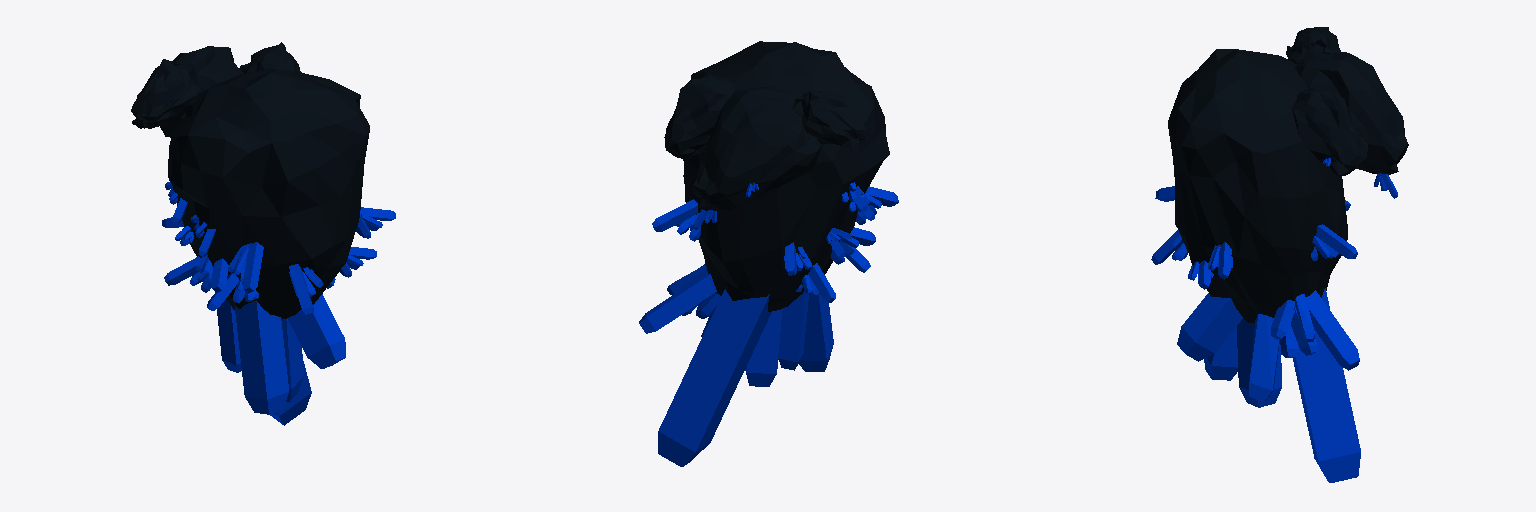
The model's file is ore_eupheria_small.obj.
3 views of the same model, side by side, from view 1: azimuth 30°, elevation 25°; view 2: azimuth 150°, elevation 25°; view 3: azimuth 270°, elevation 25° (orthographic).
Visible parts, largest first — view 1: podloga.001_Icosphere.003; view 2: podloga.001_Icosphere.003; view 3: podloga.001_Icosphere.003.
Part boxes in pixels (x1,y1,x2,y2): podloga.001_Icosphere.003: (131,42,395,425); podloga.001_Icosphere.003: (639,41,898,466); podloga.001_Icosphere.003: (1151,27,1408,482).
Bounding box in the file's own units: 9.4 × 16.1 × 9.4.